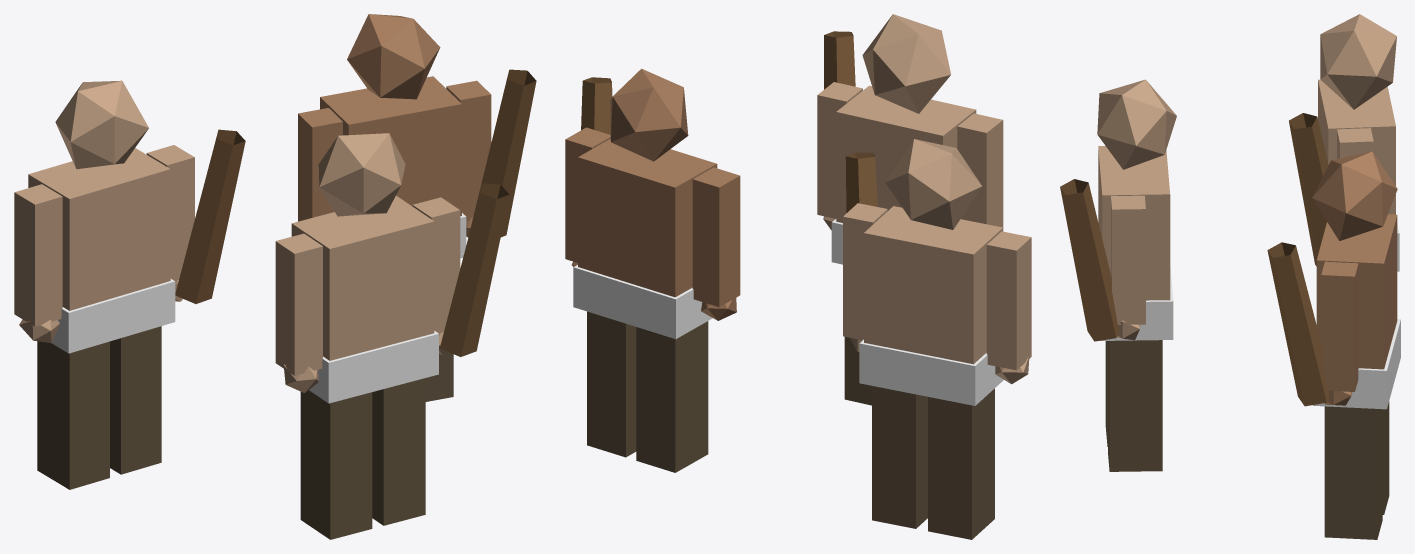
The model's file is Warrior.glb.
The picture shows the model from 3 angles, left to right: view 1: azimuth 30°, elevation 25°; view 2: azimuth 150°, elevation 25°; view 3: azimuth 270°, elevation 25°; orthographic projection. The views are drawn at different scales.
Visible parts, largest first — view 1: Units_Warrior; view 2: Units_Warrior; view 3: Units_Warrior.
Boxes of the visible parts, left/top/right/bottom form: Units_Warrior: left=14, top=14, right=536, bottom=539; Units_Warrior: left=565, top=14, right=1031, bottom=539; Units_Warrior: left=1060, top=14, right=1400, bottom=539.
Size of the model in its own units: 0.2464 by 0.1888 by 0.1606.
